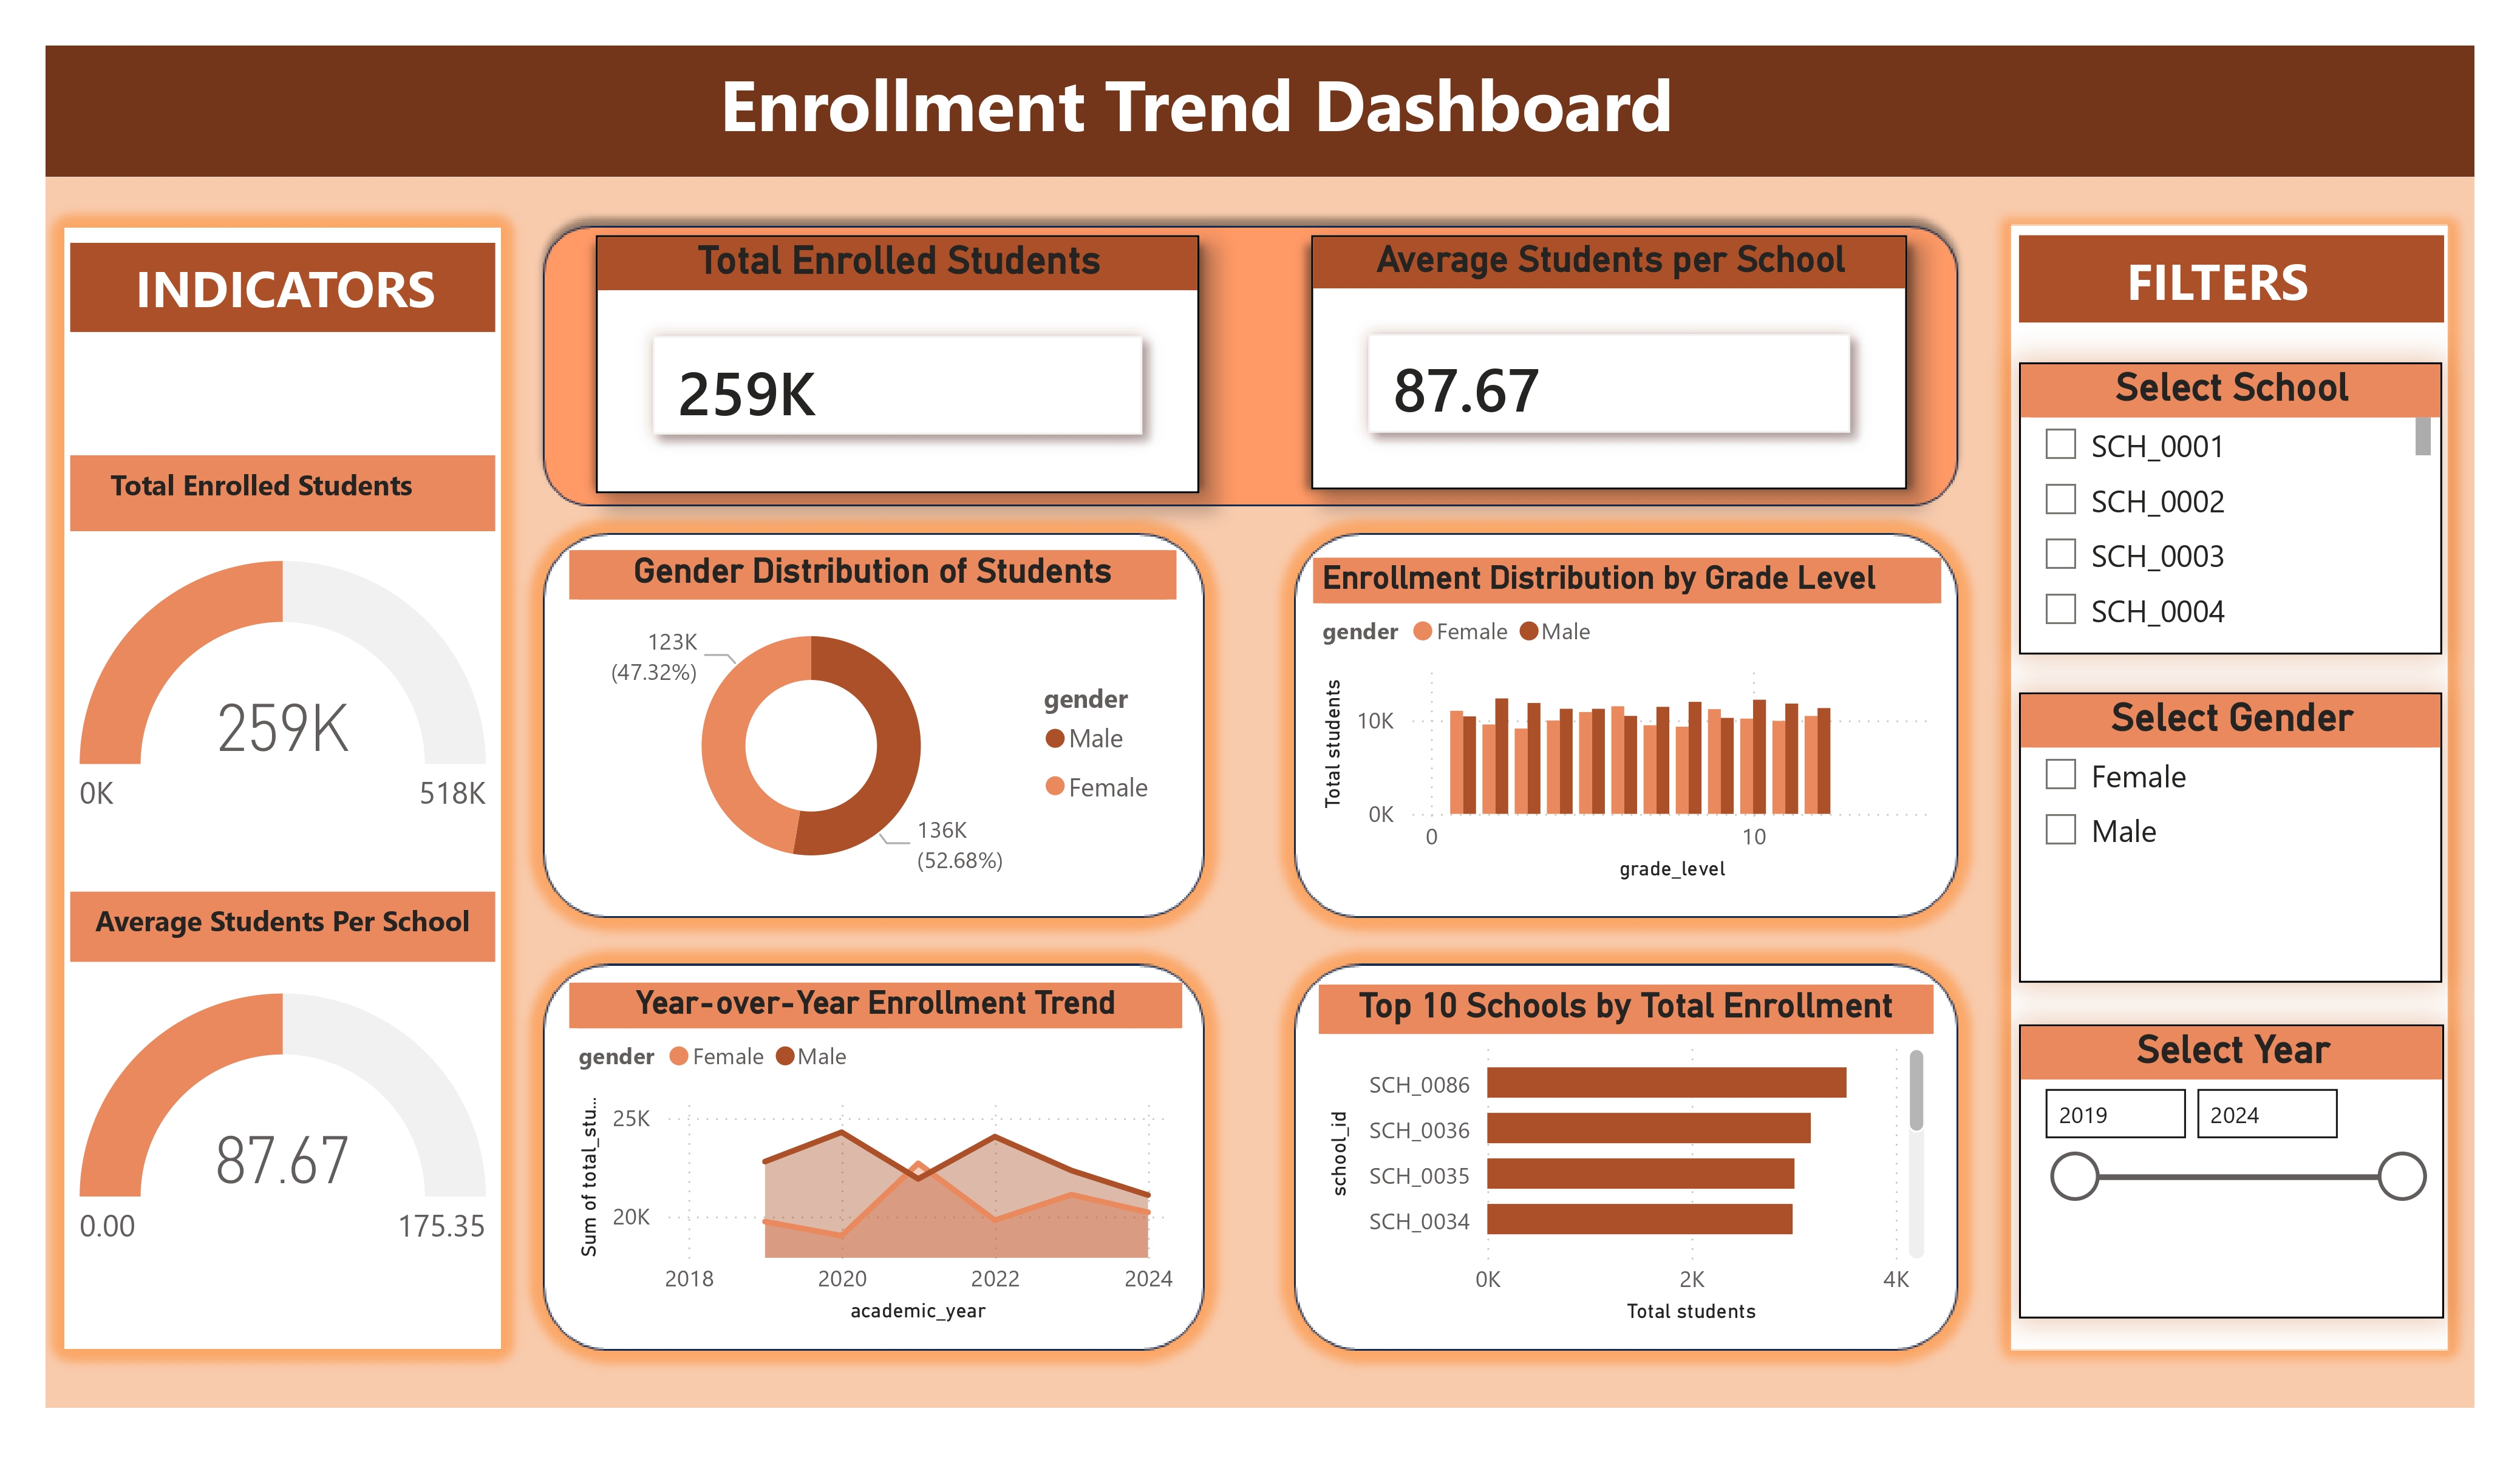

This screenshot's page, from the dashboard's own definition file:
{"tool":"powerbi","page":{"name":"Enrollment Trend Dashboard","canvas":[1280,720],"ordinal":0},"visuals":[{"type":"cardVisual","title":"Total Enrolled Students","fields":{"Data":["Sum(enrollment_analytics.total_students)"]},"box":[290,100,318,136],"z":0},{"type":"cardVisual","title":"Average Students per School","fields":{"Data":["Avg(enrollment_analytics.total_students)"]},"box":[667,100,314,134],"z":1000},{"type":"donutChart","title":"Gender Distribution of Students","fields":{"Category":["enrollment_analytics.gender"],"Y":["Sum(enrollment_analytics.total_students)"]},"box":[275.7,265.7,320,185.7],"z":2000},{"type":"clusteredColumnChart","title":"Enrollment Distribution by Grade Level","fields":{"Category":["enrollment_analytics.grade_level"],"Y":["Sum(enrollment_analytics.total_students)"],"Series":["enrollment_analytics.gender"]},"box":[668.2,270,330.9,175.5],"z":3000},{"type":"lineChart","title":"Year-over-Year Enrollment Trend","fields":{"Category":["enrollment_analytics.academic_year"],"Y":["Sum(enrollment_analytics.total_students)"],"Series":["enrollment_analytics.gender"]},"box":[275.8,494.2,323.3,184.2],"z":4000},{"type":"barChart","title":"Top 10 Schools by Total Enrollment","fields":{"Category":["enrollment_analytics.school_id"],"Y":["Sum(enrollment_analytics.total_students)"]},"box":[670.9,494.5,324.5,183.6],"z":5000},{"type":"textbox","box":[0,0,1280,68.6],"z":6000},{"type":"gauge","title":"Total Enrolled Students","fields":{"Y":["Sum(enrollment_analytics.total_students)"]},"box":[12.9,265.7,224.3,150],"z":7000},{"type":"gauge","title":"Average Students Per School","fields":{"Y":["Avg(enrollment_analytics.total_students)"]},"box":[12.9,494.3,224.3,150],"z":8000},{"type":"textbox","box":[12.9,104.3,224.3,47.1],"z":9000},{"type":"slicer","title":"Select School","fields":{"Values":["enrollment_analytics.school_id"]},"box":[1040,167.1,222.9,154.3],"z":10000},{"type":"slicer","title":"Select Gender","fields":{"Values":["enrollment_analytics.gender"]},"box":[1040,341.4,222.9,152.9],"z":11000},{"type":"slicer","title":"Select Year","fields":{"Values":["enrollment_analytics.academic_year"]},"box":[1040,515.7,224.3,155.7],"z":12000},{"type":"textbox","box":[1040,100,224.3,45.7],"z":13000},{"type":"textbox","box":[12.9,445.7,224.3,37.1],"z":14000},{"type":"textbox","box":[12.9,215.7,224.3,40],"z":15000}]}

Visuals, with their boxes in screenshot pixels (x1, y1, x2, y2):
"Total Enrolled Students" cardVisual: 596 236 1199 493
"Average Students per School" cardVisual: 1311 236 1907 489
"Gender Distribution of Students" donutChart: 569 549 1176 902
"Enrollment Distribution by Grade Level" clusteredColumnChart: 1313 558 1941 891
"Year-over-Year Enrollment Trend" lineChart: 569 983 1182 1333
"Top 10 Schools by Total Enrollment" barChart: 1319 983 1935 1332
textbox: 46 46 2474 175
"Total Enrolled Students" gauge: 70 549 495 834
"Average Students Per School" gauge: 70 983 495 1268
textbox: 70 243 495 333
"Select School" slicer: 2019 362 2442 655
"Select Gender" slicer: 2019 693 2442 983
"Select Year" slicer: 2019 1024 2445 1319
textbox: 2019 236 2445 322
textbox: 70 891 495 962
textbox: 70 455 495 531
